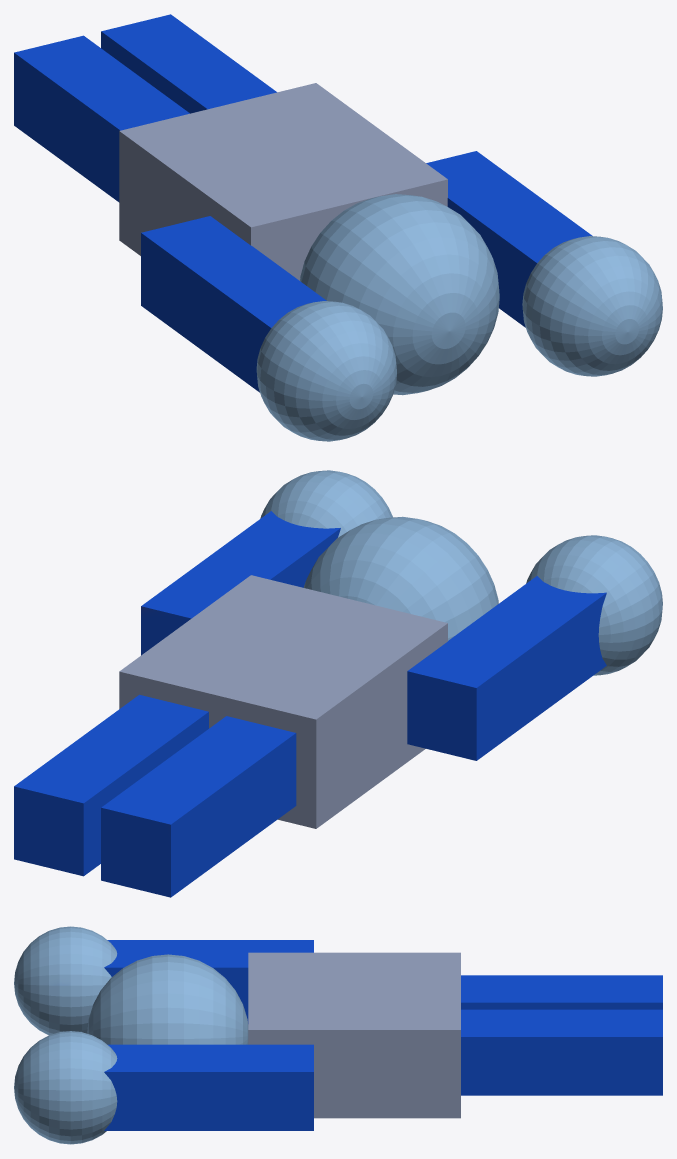
File: Player.obj
3 renders of one model, top to bottom at view 1: azimuth 30°, elevation 25°; view 2: azimuth 150°, elevation 25°; view 3: azimuth 270°, elevation 25°, orthographic. The views are drawn at different scales.
Parts seen in each view (by area): view 1: 球.001; view 2: 球.001; view 3: 球.001.
Boxes of the visible parts, left/top/right/bottom form: 球.001: left=14, top=14, right=662, bottom=441; 球.001: left=14, top=470, right=662, bottom=897; 球.001: left=14, top=926, right=662, bottom=1144.
Size of the model in its own units: 4.45 by 2 by 8.
Materials: 1 (1 with a texture image).
